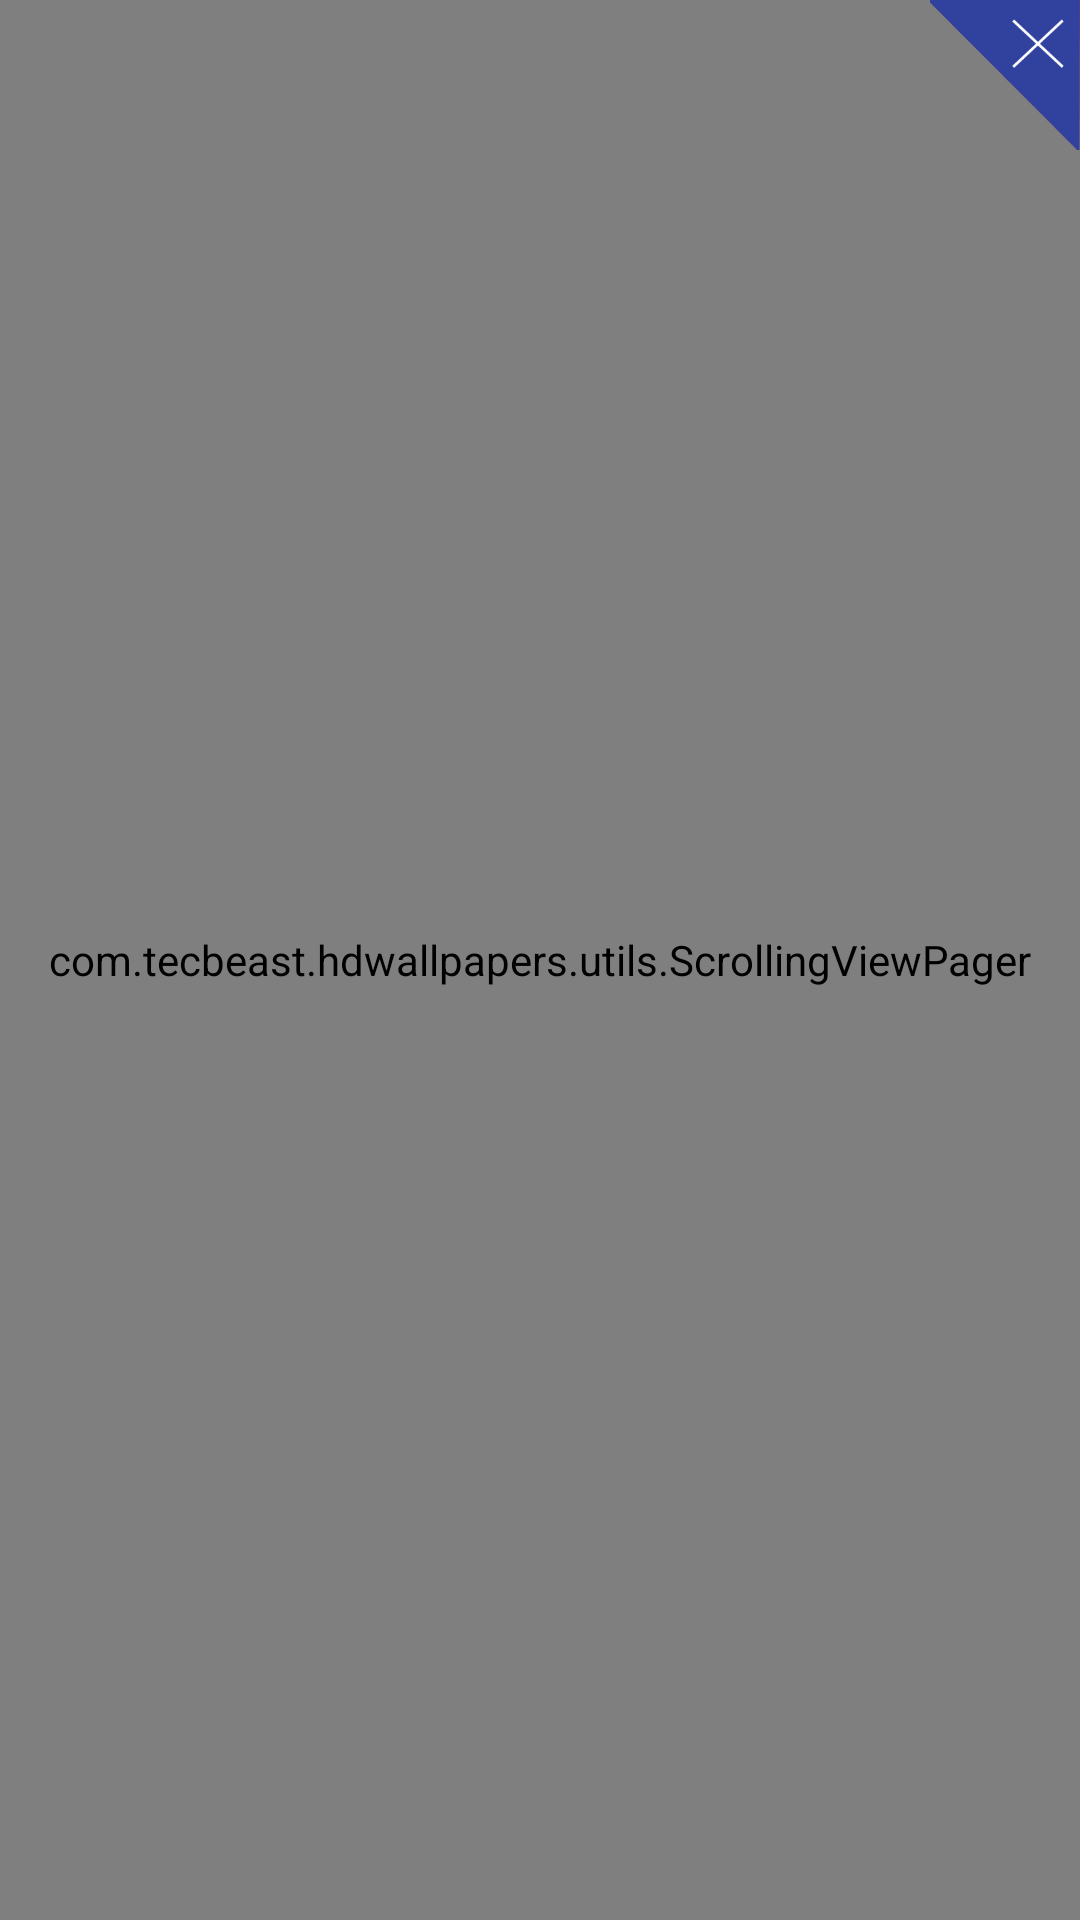

Screen size 1080w x 1920h. Icon name, then its center in pixels as [x,y]:
cancel: [1005,75]
